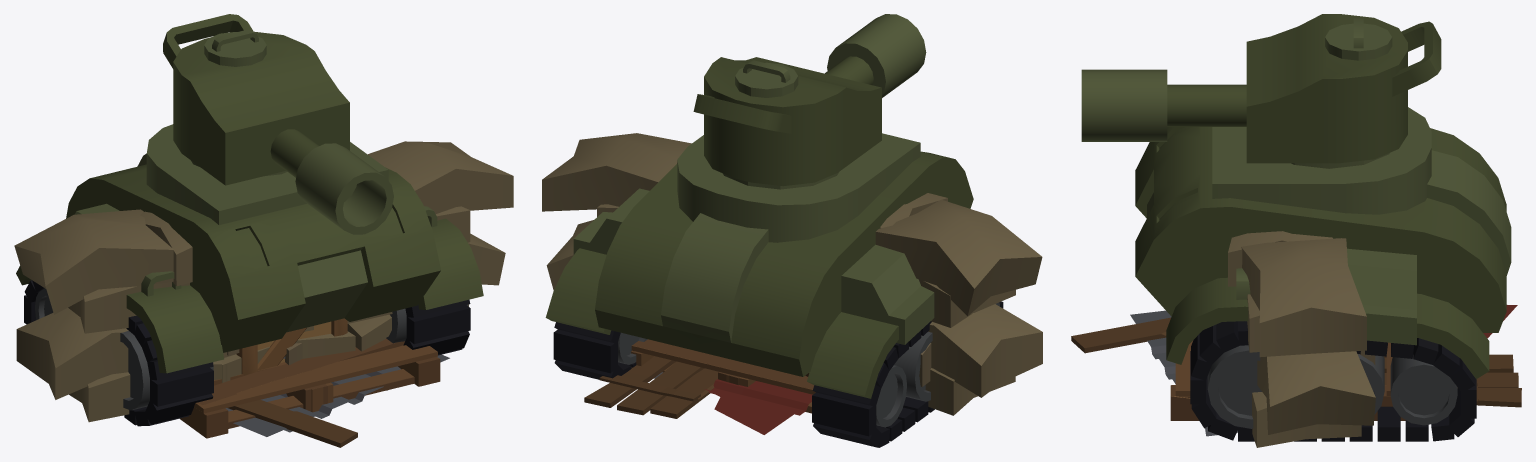
Rendered from props.glb.
3 renders of one model, left to right at view 1: azimuth 30°, elevation 25°; view 2: azimuth 150°, elevation 25°; view 3: azimuth 270°, elevation 25°, orthographic. The views are drawn at different scales.
Visible parts, largest first — view 1: tank, sacks, pallet, palletBroken, debris, crate; view 2: tank, sacks, debris, palletBroken, pallet; view 3: tank, sacks, debris, palletBroken, pallet.
Boxes of the visible parts, x1=… form: tank: x1=16, y1=14, x2=483, y2=426; sacks: x1=14, y1=141, x2=513, y2=422; pallet: x1=180, y1=345, x2=437, y2=438; palletBroken: x1=198, y1=338, x2=440, y2=438; debris: x1=225, y1=354, x2=449, y2=447; crate: x1=236, y1=318, x2=347, y2=375; tank: x1=545, y1=14, x2=1003, y2=447; sacks: x1=542, y1=133, x2=1042, y2=415; debris: x1=584, y1=356, x2=812, y2=434; palletBroken: x1=631, y1=339, x2=814, y2=389; pallet: x1=631, y1=345, x2=815, y2=413; tank: x1=1081, y1=14, x2=1511, y2=441; sacks: x1=1228, y1=231, x2=1375, y2=447; debris: x1=1071, y1=305, x2=1521, y2=436; palletBroken: x1=1170, y1=342, x2=1405, y2=420; pallet: x1=1171, y1=340, x2=1386, y2=397.
Bounding box in the file's own units: 3.35 × 2.14 × 2.63.
